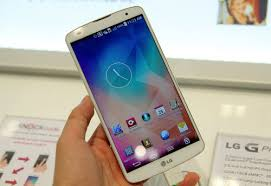lg: (57, 5, 209, 182)
